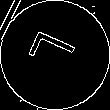L_SE: (25, 30, 85, 80)
